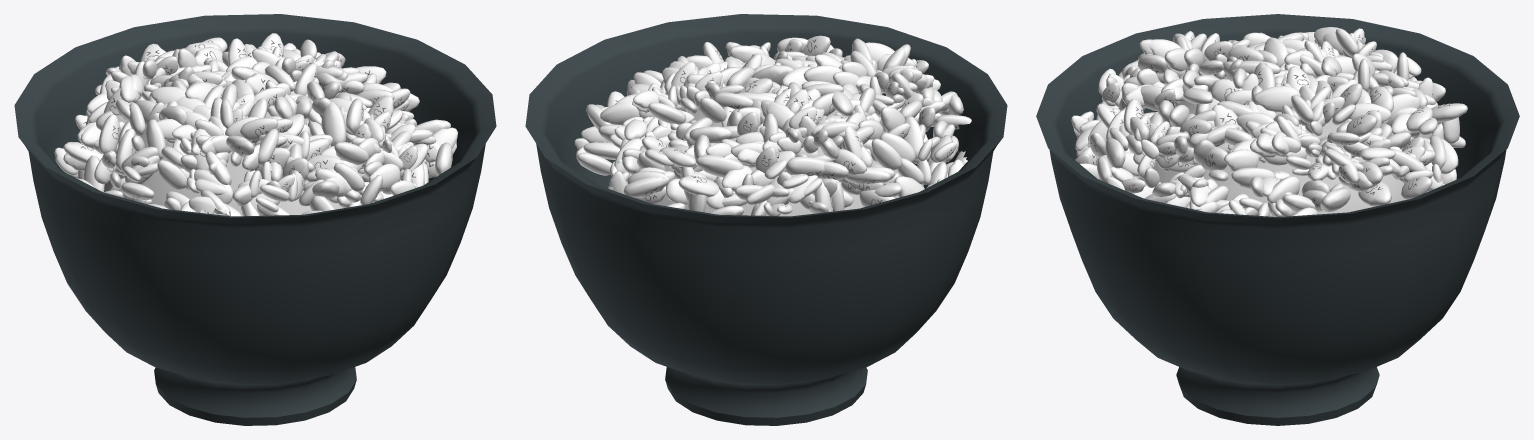
File: Bowl_common.fbx
3 renders of one model, left to right at view 1: azimuth 30°, elevation 25°; view 2: azimuth 150°, elevation 25°; view 3: azimuth 270°, elevation 25°, orthographic.
Parts seen in each view (by area): view 1: Bowl, Rice2, In_Rice2; view 2: Bowl, Rice2, In_Rice2; view 3: Bowl, Rice2, In_Rice2.
Boxes of the visible parts, x1,y1,x2,y2 form: Bowl: [14, 14, 496, 425]; Rice2: [54, 33, 457, 216]; In_Rice2: [104, 111, 364, 216]; Bowl: [525, 14, 1007, 425]; Rice2: [574, 35, 971, 216]; In_Rice2: [654, 108, 923, 216]; Bowl: [1036, 14, 1519, 425]; Rice2: [1071, 27, 1467, 216]; In_Rice2: [1139, 80, 1427, 216].
Bounding box in the file's own units: 397 × 288 × 397.
